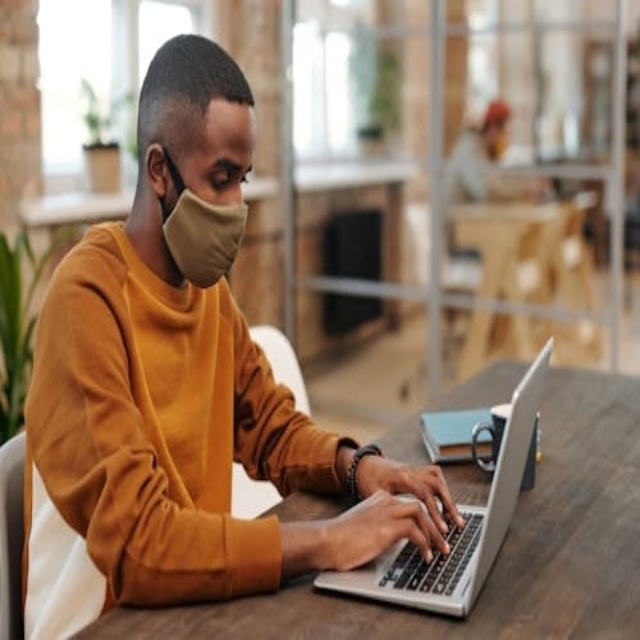Mascara: (145, 140, 255, 298)
Sin_gafas: (197, 150, 256, 190)
Sin_guantes: (346, 427, 470, 540), (323, 484, 453, 578)
